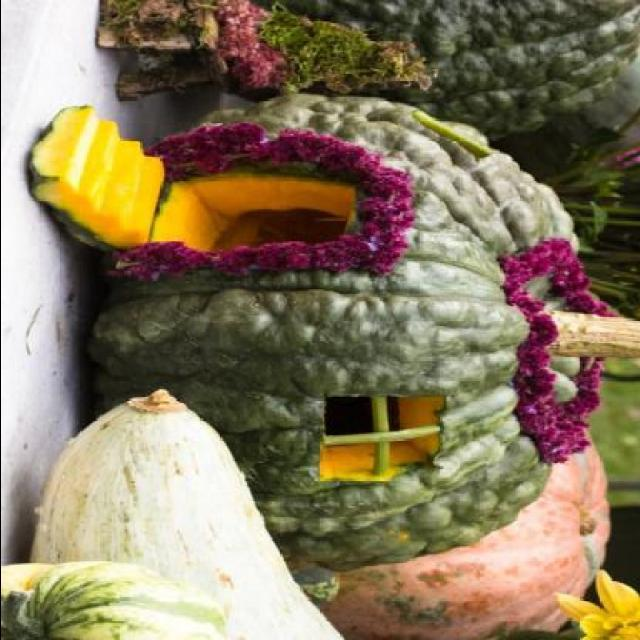Pumpkin: (32, 110, 556, 567)
